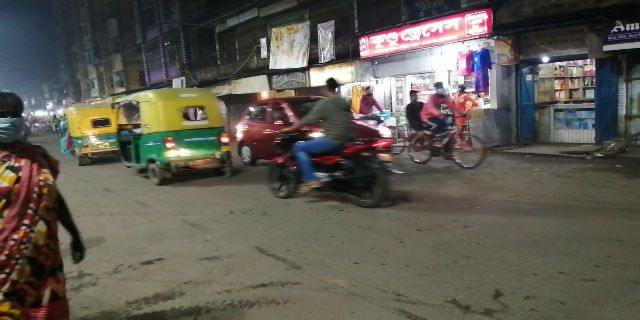Autorickshaw: (118, 87, 232, 175), (64, 102, 114, 160)
Car: (235, 97, 387, 166)
Cycle: (403, 78, 484, 172)
Motorbike: (268, 81, 396, 206)
